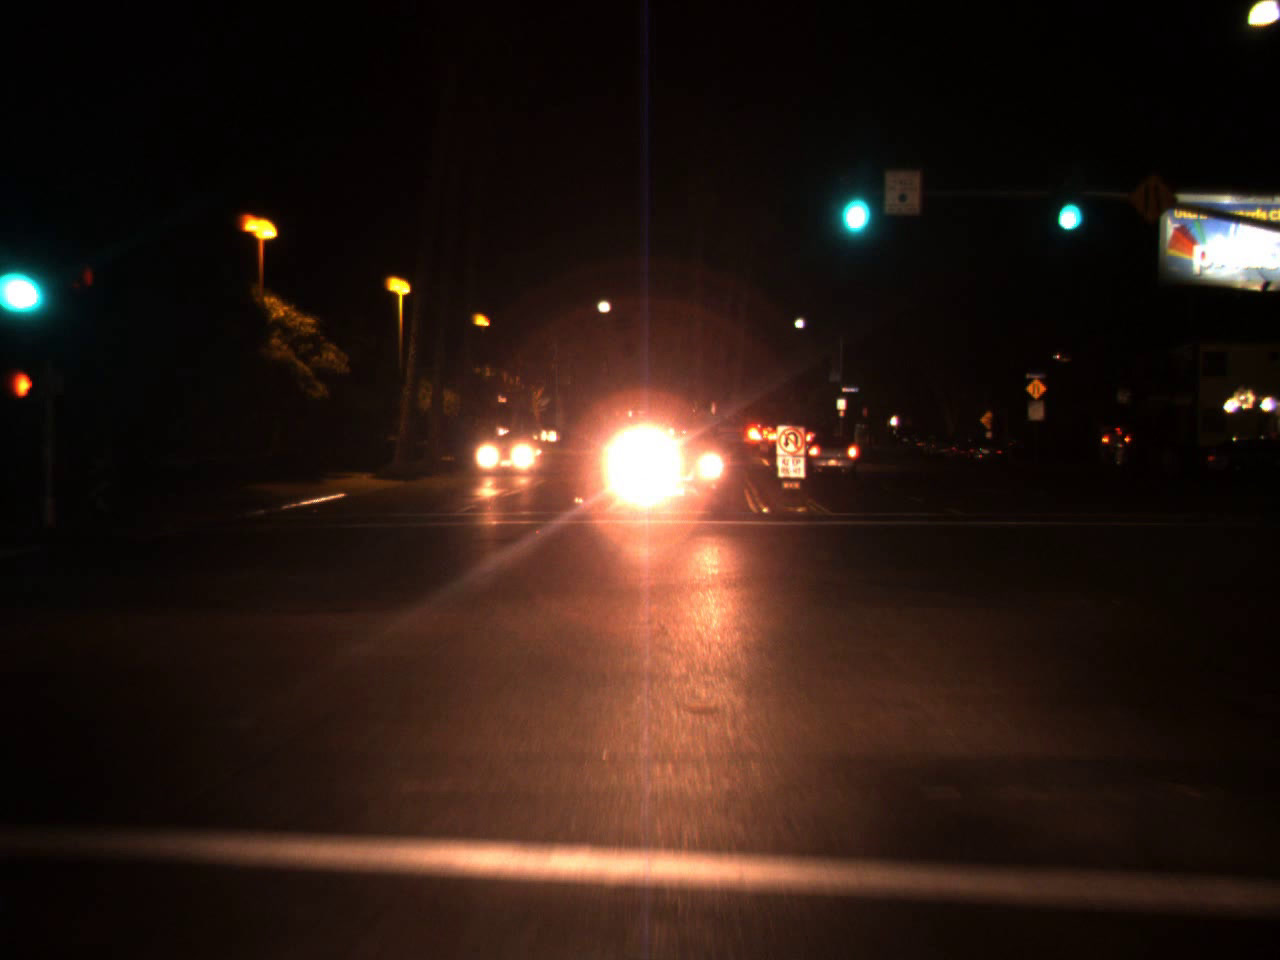go: (829, 157, 875, 244), (0, 239, 42, 320), (1050, 171, 1086, 240)
